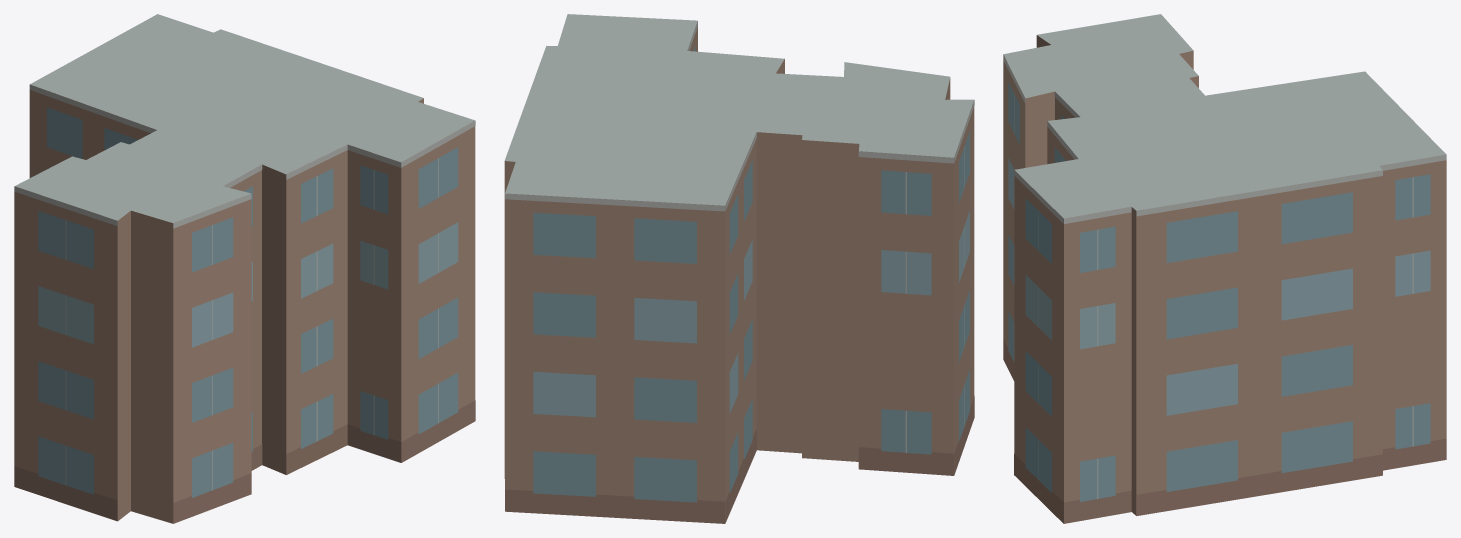
Rendered from survey-upis-32649544.glb.
3 renders of one model, left to right at view 1: azimuth 30°, elevation 25°; view 2: azimuth 150°, elevation 25°; view 3: azimuth 270°, elevation 25°, orthographic. The views are drawn at different scales.
Visible parts, largest first — view 1: survey-upis-32649544.tmp; view 2: survey-upis-32649544.tmp; view 3: survey-upis-32649544.tmp.
Boxes of the visible parts, x1,y1,x2,y2 form: survey-upis-32649544.tmp: (14, 14, 475, 523); survey-upis-32649544.tmp: (504, 14, 974, 523); survey-upis-32649544.tmp: (1003, 14, 1446, 523).
Size of the model in its own units: 19.28 by 13.4 by 17.65.
